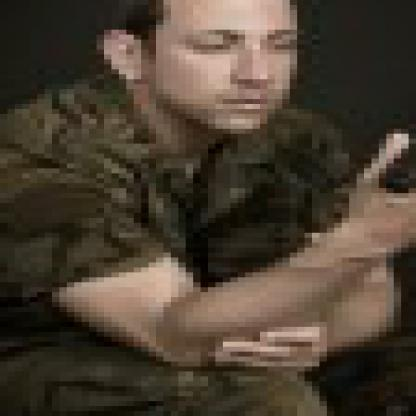gun: (349, 0, 409, 218)
